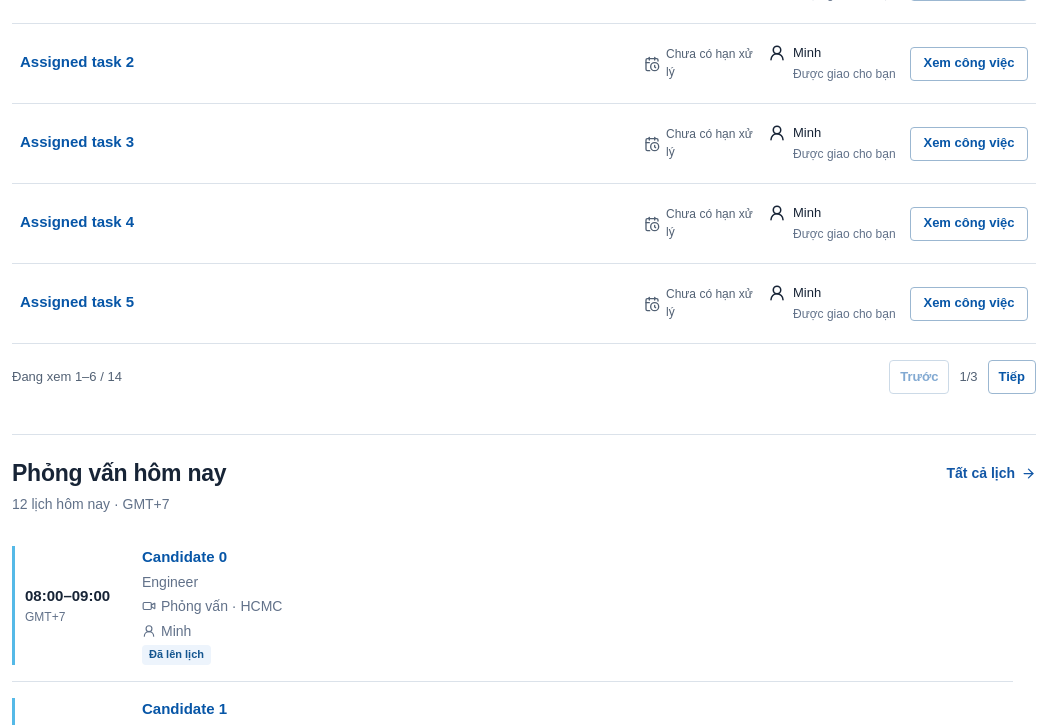
Scenario: keeps all today's interviews in a scroll region and exposes every assigned task through pages
(page scrolled)
expect the element named "Cuộn để xem tất cả lịch hôm nay" shows "Minh": met, box [161, 623, 191, 639]
Click the button "Tiếp". click: (1012, 377)
box: [988, 360, 1036, 394]
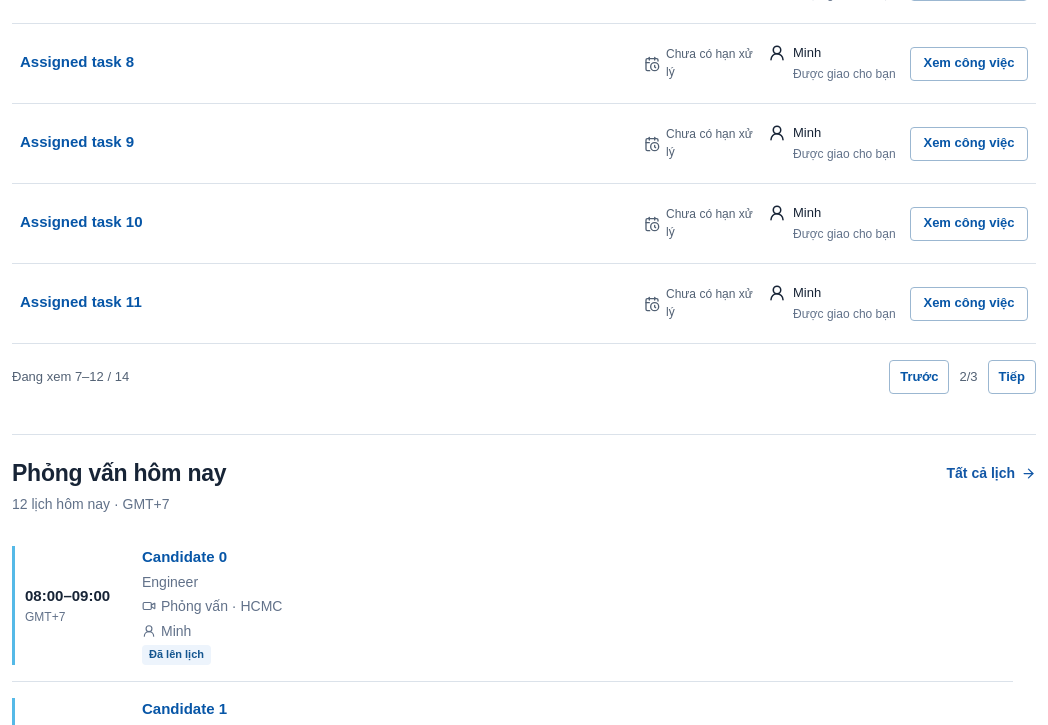
Click the button "Tiếp". click: (1012, 377)
box: [988, 360, 1036, 394]
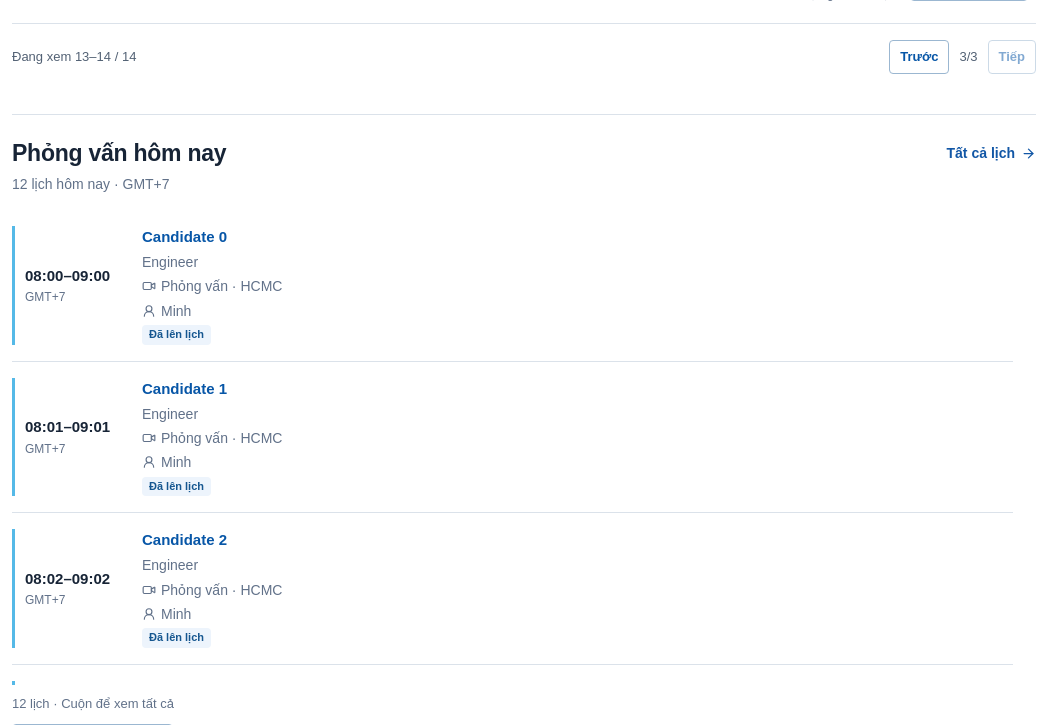
expect the button "Tiếp" is disabled: met, box [988, 40, 1036, 74]
